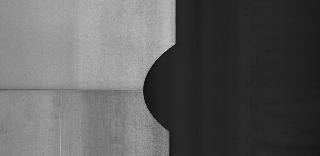welding line: (2, 81, 150, 96)
